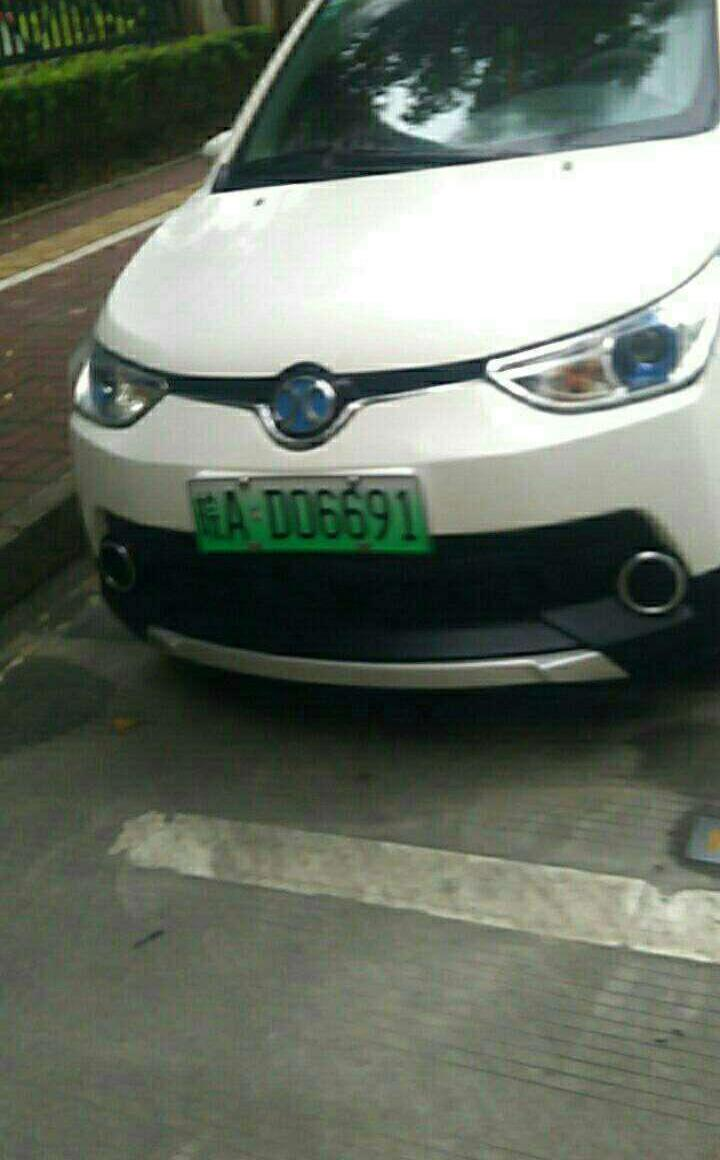car_green: (178, 464, 444, 570)
